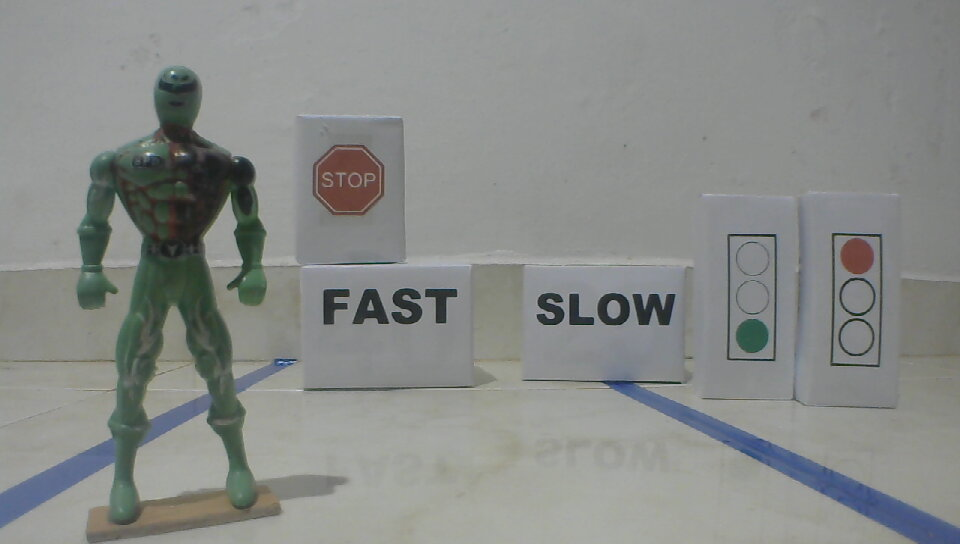Fast: (321, 287, 462, 329)
Green Traffic Light: (726, 233, 779, 365)
Person: (71, 58, 270, 530)
Red Traffic Light: (828, 229, 885, 371)
Slow: (536, 290, 678, 329)
Stop Sign: (309, 141, 387, 218)
